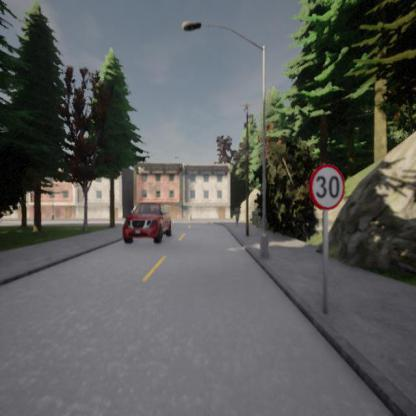traffic_sign_30: (309, 164, 346, 210)
vehicle: (122, 203, 172, 243)
